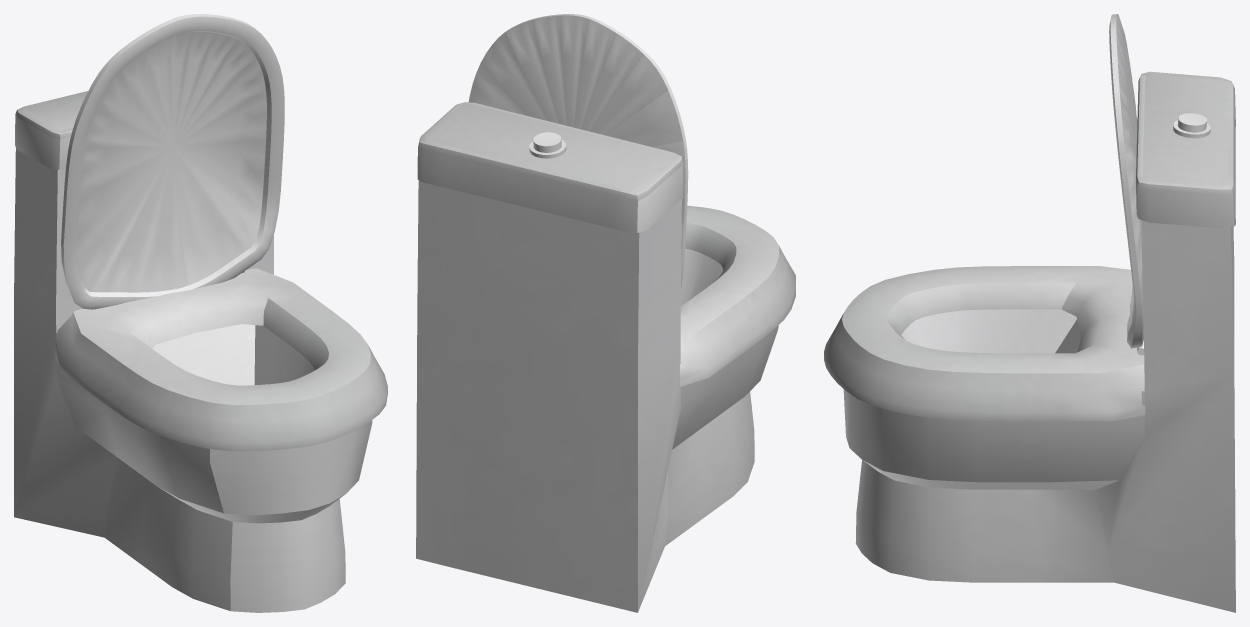
File: toilettes finaux.FBX
3 renders of one model, left to right at view 1: azimuth 30°, elevation 25°; view 2: azimuth 150°, elevation 25°; view 3: azimuth 270°, elevation 25°, orthographic. The views are drawn at different scales.
Parts seen in each view (by area): view 1: Objet013; view 2: Objet013; view 3: Objet013.
Part boxes in pixels (x1,y1,x2,y2): Objet013: (14, 14, 387, 612); Objet013: (416, 14, 795, 612); Objet013: (824, 14, 1235, 612).
Size of the model in its own units: 72.88 by 149 by 104.
